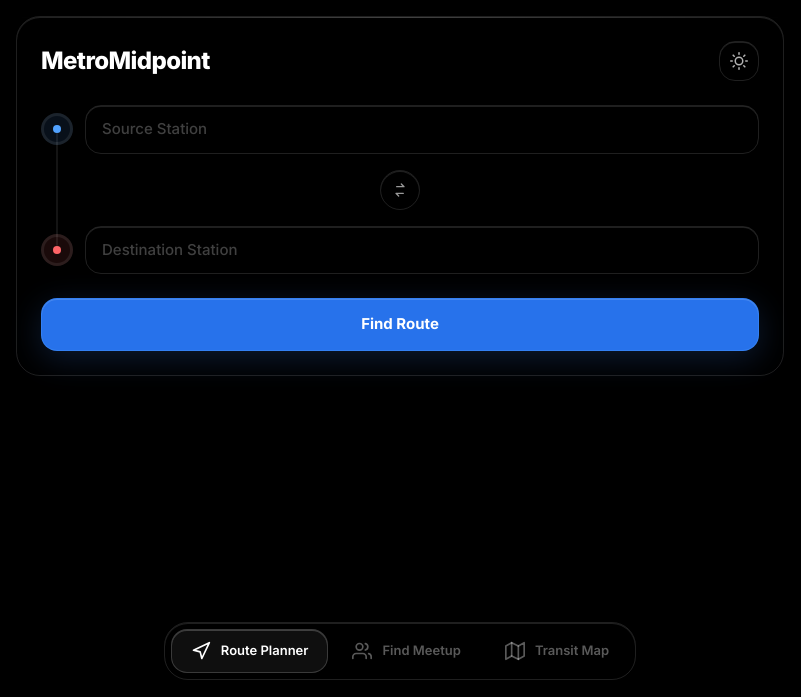
App Component › swaps tabs correctly between Meeting and Visualizer layouts
The image size is (801, 697).
Expected: the heading "MetroMidpoint" is shown, [41,45,210,77]
Expected: the field with placeholder "Station 1" is not shown
Click the button "Find Meetup". click: (407, 651)
box: [332,629,481,673]
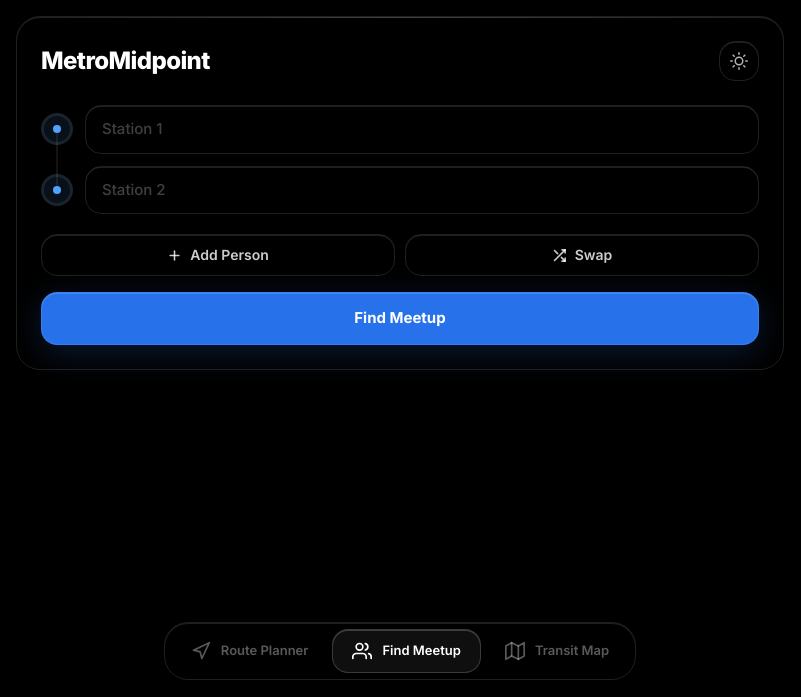
Result: the field with placeholder "Station 1" is shown at [85,105,759,154]
